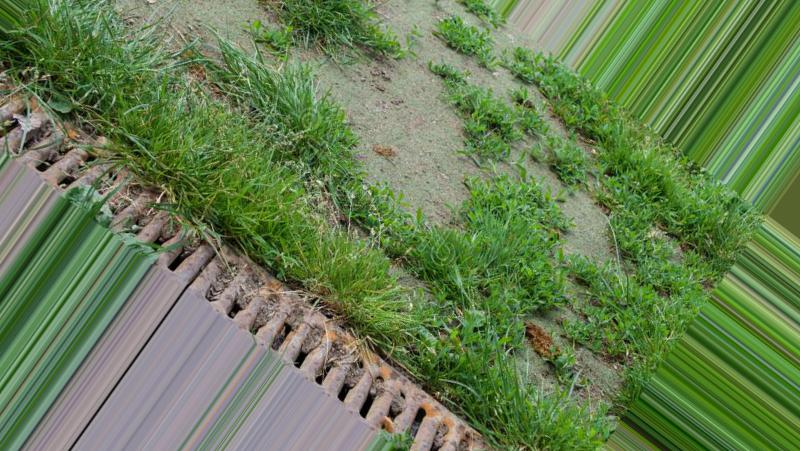patch: (331, 57, 480, 229), (521, 319, 622, 415), (119, 7, 262, 57), (548, 179, 622, 264), (382, 4, 465, 53)
